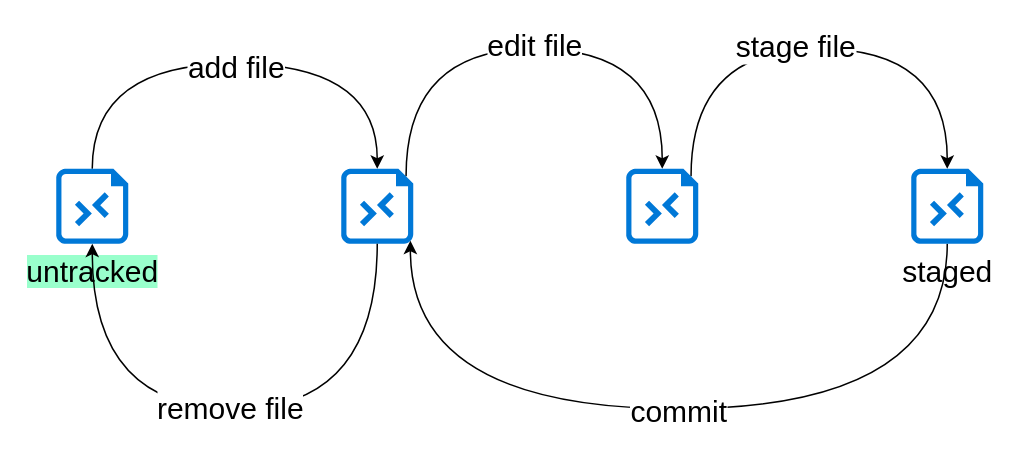
Some shapes in this 1017 by 453 pixel diagram are drawn without their labels. The shapes that lost their labels are listed below. From the top down, each one's centre as x and y in pixels, then its label:
At pixel 376 205: "unmodified".
At pixel 662 205: "modified".
